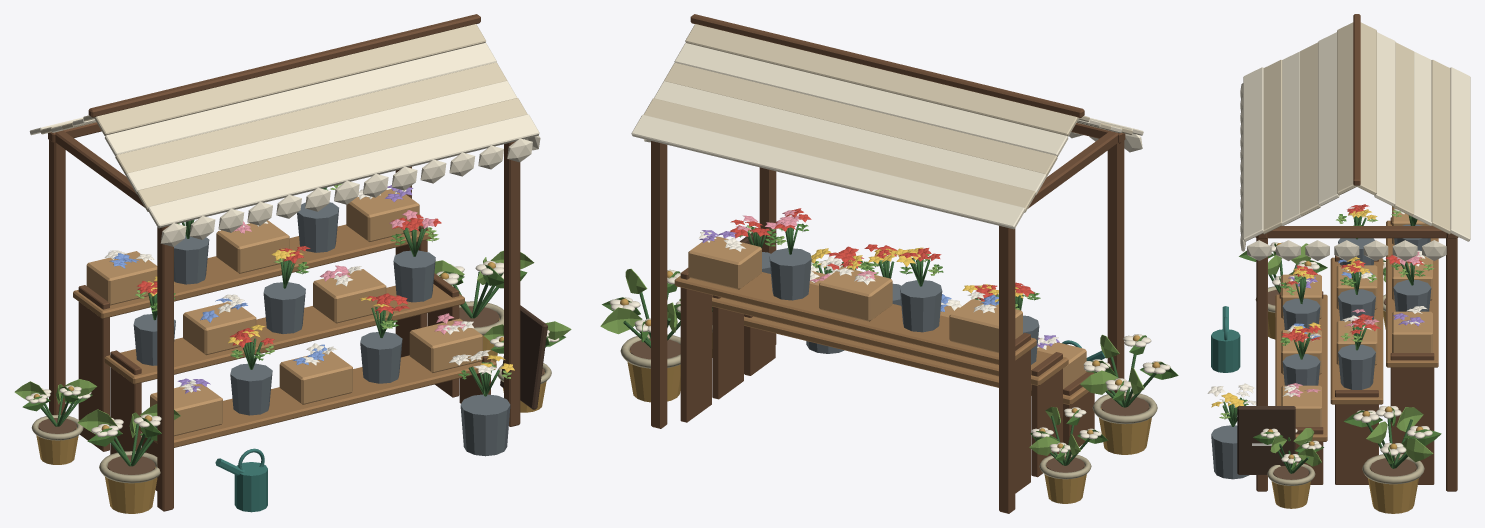
The picture shows the model from 3 angles, left to right: view 1: azimuth 30°, elevation 25°; view 2: azimuth 150°, elevation 25°; view 3: azimuth 270°, elevation 25°; orthographic projection. The views are drawn at different scales.
Visible parts, largest first — view 1: square_canvas, square_wood_dark, square_canvas_shade, square_wood_light, square_wood, square_steel, square_leaf_dark, square_leaf_light, square_ochre, square_ink, square_leaf, square_ceramic (+8 smaller); view 2: square_wood_dark, square_canvas, square_canvas_shade, square_wood, square_wood_light, square_steel, square_ochre, square_leaf_light, square_leaf_dark, square_white, square_ceramic, square_leaf (+4 smaller); view 3: square_canvas, square_canvas_shade, square_wood_dark, square_steel, square_wood_light, square_wood, square_ink, square_leaf_light, square_ochre, square_leaf_dark, square_leaf, square_white (+7 smaller).
Part boxes in pixels (x1=…): square_canvas: x1=29, y1=43, x2=540, y2=246; square_wood_dark: x1=48, y1=14, x2=520, y2=511; square_canvas_shade: x1=40, y1=24, x2=527, y2=211; square_wood_light: x1=86, y1=189, x2=482, y2=436; square_wood: x1=73, y1=224, x2=496, y2=447; square_steel: x1=133, y1=202, x2=510, y2=456; square_leaf_dark: x1=33, y1=187, x2=549, y2=466; square_leaf_light: x1=14, y1=184, x2=571, y2=437; square_ochre: x1=33, y1=262, x2=546, y2=513; square_ink: x1=500, y1=305, x2=547, y2=409; square_leaf: x1=22, y1=189, x2=565, y2=446; square_ceramic: x1=31, y1=301, x2=551, y2=483; square_wood_dark: x1=651, y1=14, x2=1125, y2=513; square_canvas: x1=631, y1=43, x2=1143, y2=229; square_canvas_shade: x1=643, y1=24, x2=1132, y2=212; square_wood: x1=674, y1=272, x2=1088, y2=405; square_wood_light: x1=688, y1=236, x2=1086, y2=389; square_steel: x1=762, y1=248, x2=1039, y2=364; square_ochre: x1=620, y1=271, x2=1160, y2=503; square_leaf_light: x1=600, y1=225, x2=1144, y2=455; square_leaf_dark: x1=623, y1=224, x2=1156, y2=465; square_white: x1=609, y1=269, x2=1170, y2=453; square_ceramic: x1=620, y1=325, x2=1157, y2=479; square_leaf: x1=602, y1=223, x2=1178, y2=460; square_canvas: x1=1240, y1=32, x2=1470, y2=260; square_canvas_shade: x1=1263, y1=22, x2=1450, y2=234; square_wood_dark: x1=1255, y1=14, x2=1458, y2=491; square_steel: x1=1211, y1=224, x2=1431, y2=479; square_wood_light: x1=1281, y1=206, x2=1432, y2=426; square_wood: x1=1275, y1=220, x2=1438, y2=441; square_ink: x1=1237, y1=406, x2=1295, y2=474; square_leaf_light: x1=1219, y1=210, x2=1434, y2=466; square_ochre: x1=1267, y1=243, x2=1423, y2=513; square_leaf_dark: x1=1222, y1=215, x2=1417, y2=473; square_leaf: x1=1239, y1=214, x2=1441, y2=470; square_white: x1=1260, y1=242, x2=1432, y2=463.
Size of the model in its own units: 3.51 by 2.42 by 1.8.
